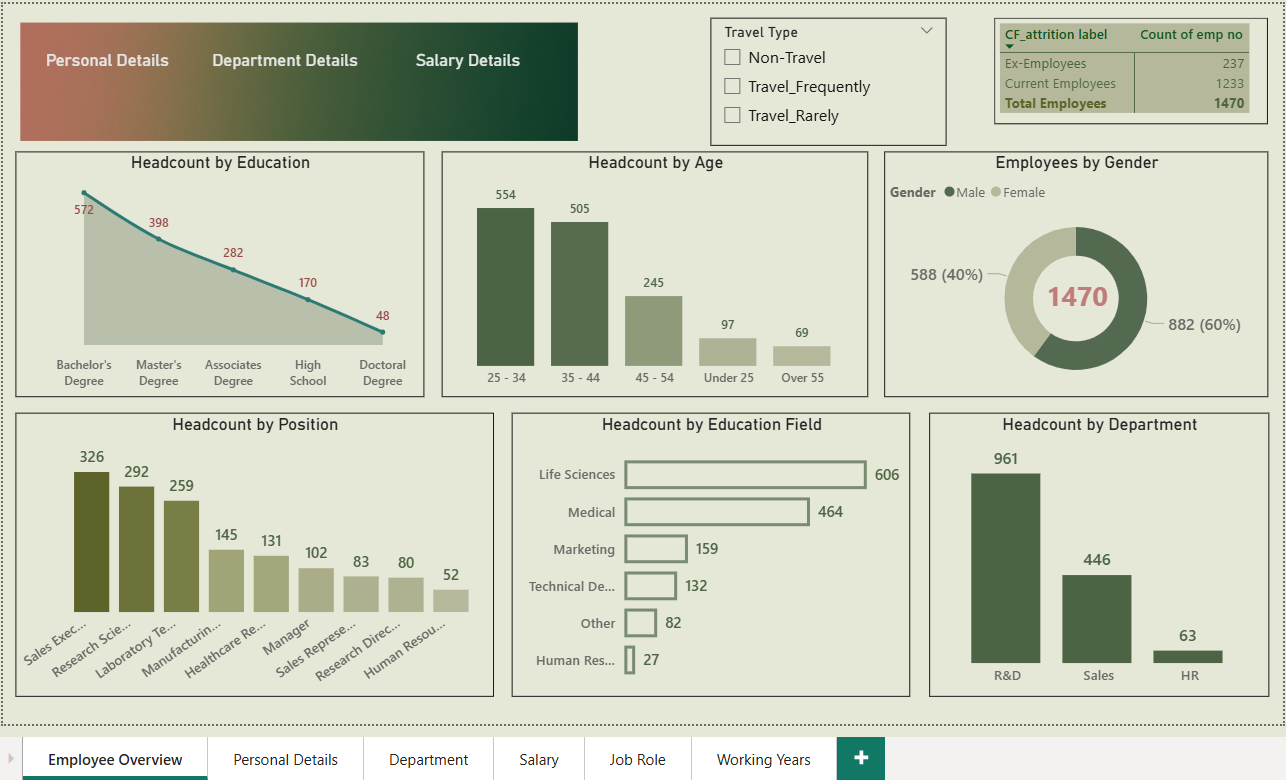

The dashboard page shown, as its layout file describes it:
{"tool":"powerbi","page":{"name":"Employee Overview","canvas":[1280,720],"ordinal":0},"visuals":[{"type":"image","box":[12.2,13.5,567.4,128.4],"z":0,"group":"g1"},{"type":"donutChart","title":"Employees by Gender","fields":{"Category":["Data.Gender"],"Y":["CountNonNull(Data.emp no)"]},"box":[881.7,148,384,245.8],"z":1000},{"type":"pivotTable","title":"Headcount by Status ","fields":{"Rows":["Data.CF_attrition label"],"Values":["CountNonNull(Data.emp no)"]},"box":[991.7,13.5,273.9,106.4],"z":2000},{"type":"columnChart","title":"Headcount by Age","fields":{"Category":["Data.CF_age band"],"Y":["CountNonNull(Data.emp no)"]},"box":[439,148,426.8,245.8],"z":3000},{"type":"columnChart","title":"Headcount by Department","fields":{"Category":["Data.Department"],"Y":["CountNonNull(Data.emp no)"]},"box":[925.7,408.4,339.9,283.7],"z":4000},{"type":"areaChart","title":"Headcount by Education","fields":{"Category":["Data.Education"],"Y":["CountNonNull(Data.emp no)"]},"box":[12.2,148,408.4,245.8],"z":5000},{"type":"columnChart","title":"Headcount by Position","fields":{"Category":["Data.Job Role"],"Y":["CountNonNull(Data.emp no)"]},"box":[12.2,408.4,478.1,283.7],"z":6000},{"type":"card","fields":{"Values":["CountNonNull(Data.emp no)"]},"box":[1032.1,266.6,83.2,53.8],"z":7000},{"type":"clusteredBarChart","title":"Headcount by Education Field","fields":{"Y":["CountNonNull(Data.emp no)"],"Category":["Data.Education Field"]},"box":[508.7,408.4,398.6,283.7],"z":8000},{"type":"slicer","title":"Headcount by Age","fields":{"Values":["Data.Business Travel"]},"box":[708,13.5,236,128.4],"z":9000},{"type":"actionButton","title":"Personal Details","box":[35.4,46,136.1,55],"z":11000,"group":"g1"},{"type":"actionButton","title":"Department Details","box":[202.6,46,158.9,57.8],"z":12000,"group":"g1"},{"type":"actionButton","title":"Salary Details","box":[398.2,46,132.2,53.9],"z":13000,"group":"g1"},{"type":"group","id":"g1","title":"Group 1","box":[12.2,13.5,567.4,128.4],"z":13001}]}

Visuals, with their boxes on the page's 1280x720 design canvas (x1, y1, x2, y2). These are canvas units, not pixel positions in the 1286x780 screenshot, which may show the page scaled, cropped or inside an application window:
image: (12, 14, 580, 142)
"Employees by Gender" donutChart: (882, 148, 1266, 394)
"Headcount by Status " pivotTable: (992, 14, 1266, 120)
"Headcount by Age" columnChart: (439, 148, 866, 394)
"Headcount by Department" columnChart: (926, 408, 1266, 692)
"Headcount by Education" areaChart: (12, 148, 421, 394)
"Headcount by Position" columnChart: (12, 408, 490, 692)
card - CountNonNull(Data.emp no): (1032, 267, 1115, 320)
"Headcount by Education Field" clusteredBarChart: (509, 408, 907, 692)
"Headcount by Age" slicer: (708, 14, 944, 142)
"Personal Details" actionButton: (35, 46, 172, 101)
"Department Details" actionButton: (203, 46, 362, 104)
"Salary Details" actionButton: (398, 46, 530, 100)
"Group 1" group: (12, 14, 580, 142)
